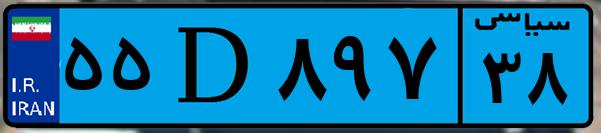3: (475, 38, 525, 113)
5: (57, 26, 110, 100), (110, 28, 158, 98)
7: (385, 28, 445, 110)
8: (270, 28, 330, 110), (525, 38, 570, 115)
9: (330, 28, 385, 110)
D: (158, 12, 270, 120)
